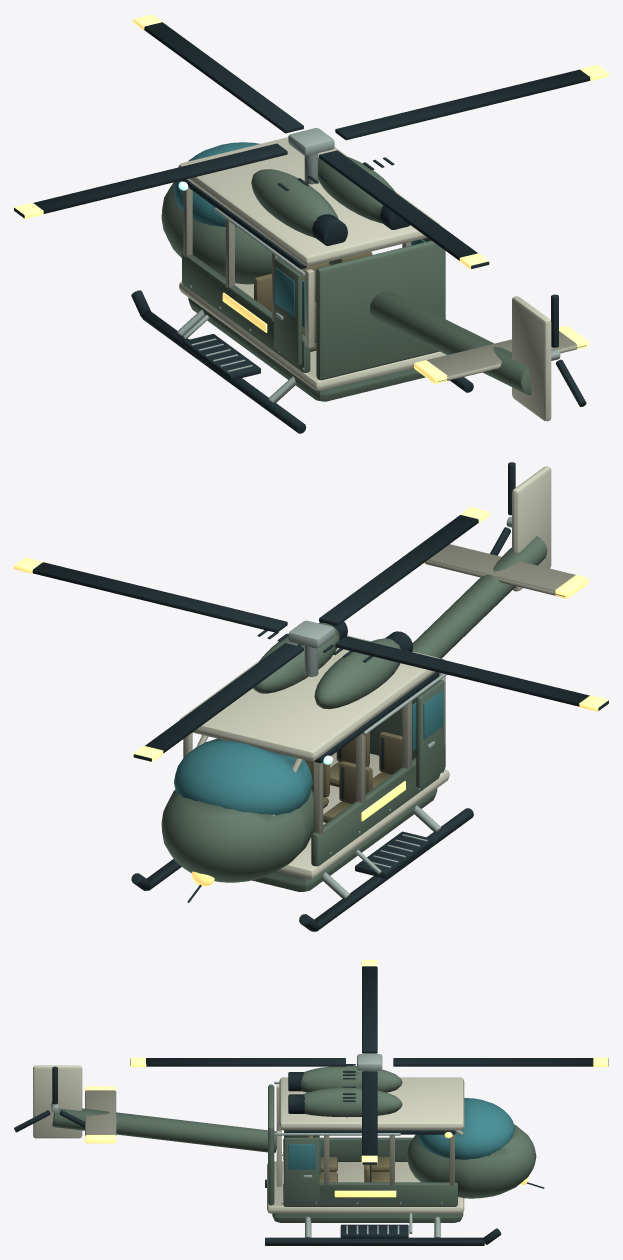
The model's file is kf-rescue-helicopter.glb.
The picture shows the model from 3 angles, top to bottom: view 1: azimuth 30°, elevation 25°; view 2: azimuth 150°, elevation 25°; view 3: azimuth 270°, elevation 25°; orthographic projection. The views are drawn at different scales.
Visible parts, largest first — view 1: RescueHelicopter Rescue sage, RescueHelicopter Rescue ivory, MainRotor Rotor carbon, RescueHelicopter Rotor carbon, RescueHelicopter Cockpit glazing, RescueHelicopter Aircraft fittings, RescueHelicopter Rescue gold, MainRotor Rescue gold, RescueHelicopter Seat canvas, MainRotor Aircraft fittings, TailRotor Rotor carbon; view 2: RescueHelicopter Rescue sage, RescueHelicopter Rescue ivory, MainRotor Rotor carbon, RescueHelicopter Cockpit glazing, RescueHelicopter Rotor carbon, RescueHelicopter Seat canvas, RescueHelicopter Aircraft fittings, RescueHelicopter Rescue gold, MainRotor Rescue gold, MainRotor Aircraft fittings; view 3: RescueHelicopter Rescue sage, RescueHelicopter Rescue ivory, MainRotor Rotor carbon, RescueHelicopter Rotor carbon, RescueHelicopter Cockpit glazing, RescueHelicopter Aircraft fittings, RescueHelicopter Rescue gold, RescueHelicopter Seat canvas, TailRotor Rotor carbon, MainRotor Rescue gold, MainRotor Aircraft fittings.
Boxes of the visible parts, box(x1,y1,x2,y2) form: RescueHelicopter Rescue sage: box(161, 156, 531, 401); RescueHelicopter Rescue ivory: box(175, 137, 586, 421); MainRotor Rotor carbon: box(14, 22, 590, 268); RescueHelicopter Rotor carbon: box(131, 157, 473, 433); RescueHelicopter Cockpit glazing: box(174, 142, 425, 327); RescueHelicopter Aircraft fittings: box(177, 153, 560, 402); RescueHelicopter Rescue gold: box(222, 292, 588, 383); MainRotor Rescue gold: box(14, 14, 608, 269); RescueHelicopter Seat canvas: box(254, 251, 372, 351); MainRotor Aircraft fittings: box(288, 128, 334, 155); TailRotor Rotor carbon: box(551, 294, 586, 406); RescueHelicopter Rescue sage: box(161, 536, 547, 891); RescueHelicopter Rescue ivory: box(175, 466, 575, 878); MainRotor Rotor carbon: box(32, 515, 608, 761); RescueHelicopter Cockpit glazing: box(174, 690, 443, 815); RescueHelicopter Rotor carbon: box(131, 621, 473, 931); RescueHelicopter Seat canvas: box(305, 732, 412, 822); RescueHelicopter Aircraft fittings: box(304, 517, 511, 898); RescueHelicopter Rescue gold: box(191, 562, 588, 886); MainRotor Rescue gold: box(14, 507, 608, 761); MainRotor Aircraft fittings: box(288, 620, 334, 648); RescueHelicopter Rescue sage: box(52, 1065, 536, 1222); RescueHelicopter Rescue ivory: box(33, 1065, 493, 1213); MainRotor Rotor carbon: box(130, 966, 608, 1164); RescueHelicopter Rotor carbon: box(265, 1064, 544, 1245); RescueHelicopter Cockpit glazing: box(288, 1098, 514, 1174); RescueHelicopter Aircraft fittings: box(51, 1070, 442, 1238); RescueHelicopter Rescue gold: box(85, 1086, 528, 1197); RescueHelicopter Seat canvas: box(307, 1135, 426, 1182); TailRotor Rotor carbon: box(14, 1066, 84, 1132); MainRotor Rescue gold: box(130, 960, 608, 1164); MainRotor Aircraft fittings: box(357, 1054, 382, 1070).
Bounding box in the file's own units: 11.65 × 4.25 × 14.49.
